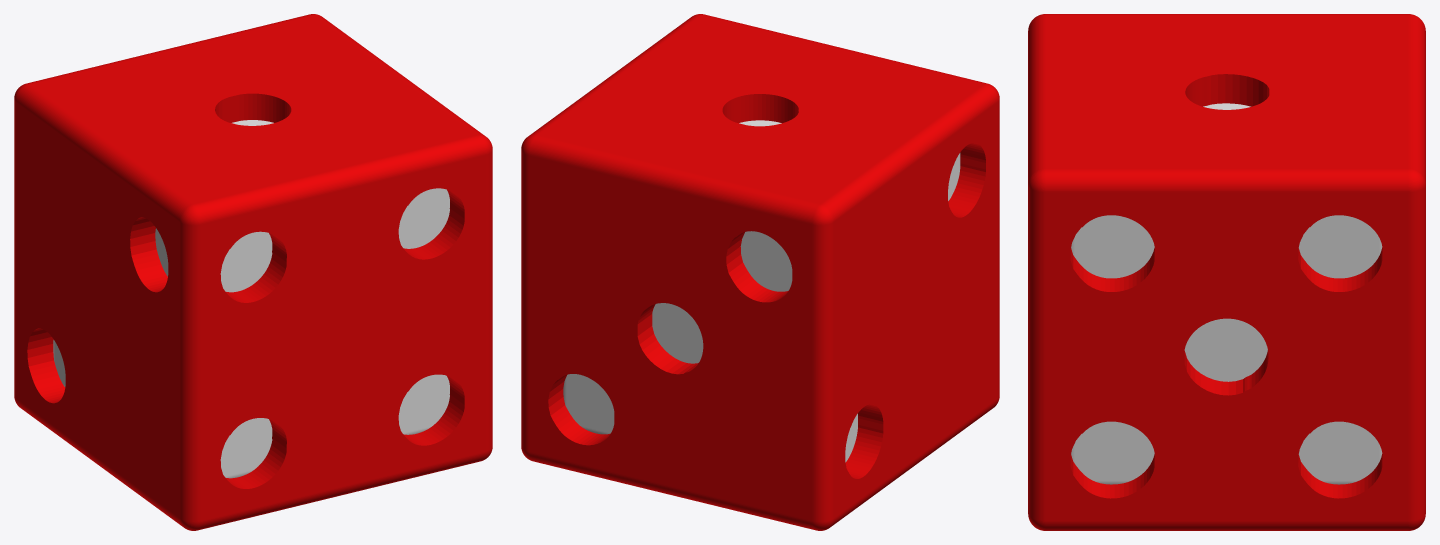
The model's file is DiceMakerD6.glb.
3 renders of one model, left to right at view 1: azimuth 30°, elevation 25°; view 2: azimuth 150°, elevation 25°; view 3: azimuth 270°, elevation 25°, orthographic. The views are drawn at different scales.
Parts seen in each view (by area): view 1: d6_3d_numbered_stl, d6_3d_blank_stl; view 2: d6_3d_numbered_stl, d6_3d_blank_stl; view 3: d6_3d_numbered_stl, d6_3d_blank_stl.
Boxes of the visible parts, left/top/right/bottom form: d6_3d_numbered_stl: left=14, top=14, right=492, bottom=530; d6_3d_blank_stl: left=53, top=120, right=449, bottom=478; d6_3d_numbered_stl: left=521, top=14, right=999, bottom=530; d6_3d_blank_stl: left=563, top=120, right=960, bottom=462; d6_3d_numbered_stl: left=1028, top=14, right=1425, bottom=530; d6_3d_blank_stl: left=1071, top=103, right=1382, bottom=484.
Bounding box in the file's own units: 16 × 16 × 16.
